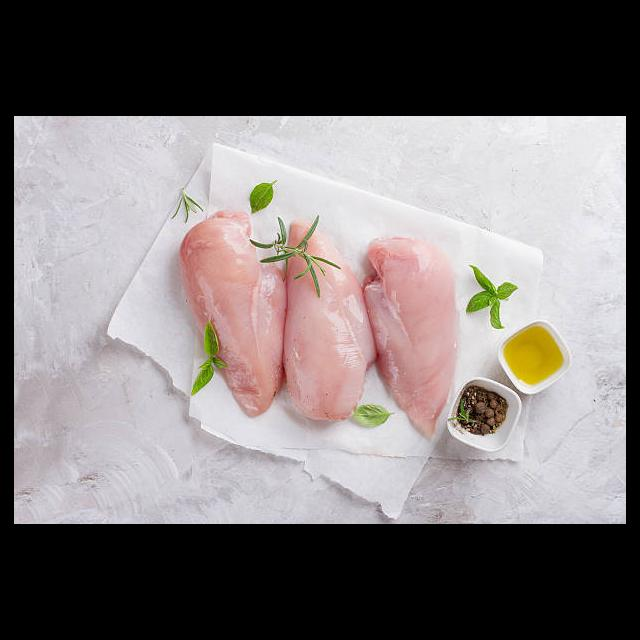chicken: (180, 210, 287, 418), (365, 232, 464, 437), (279, 219, 376, 423)
